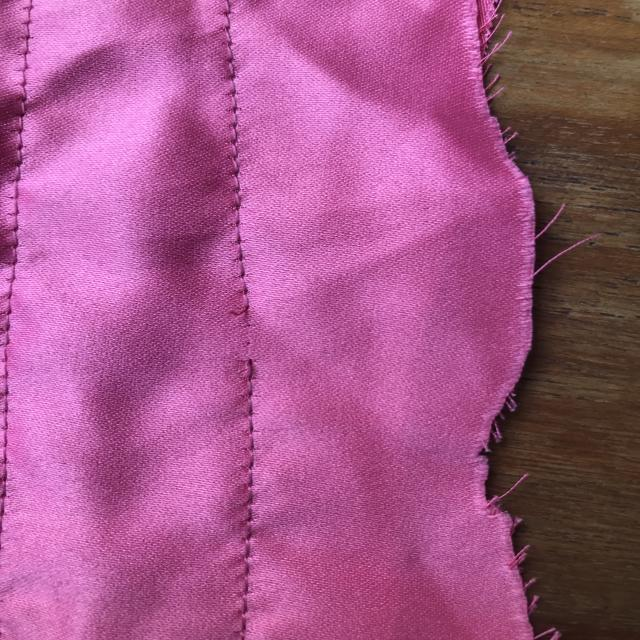broken: (222, 293, 270, 378)
